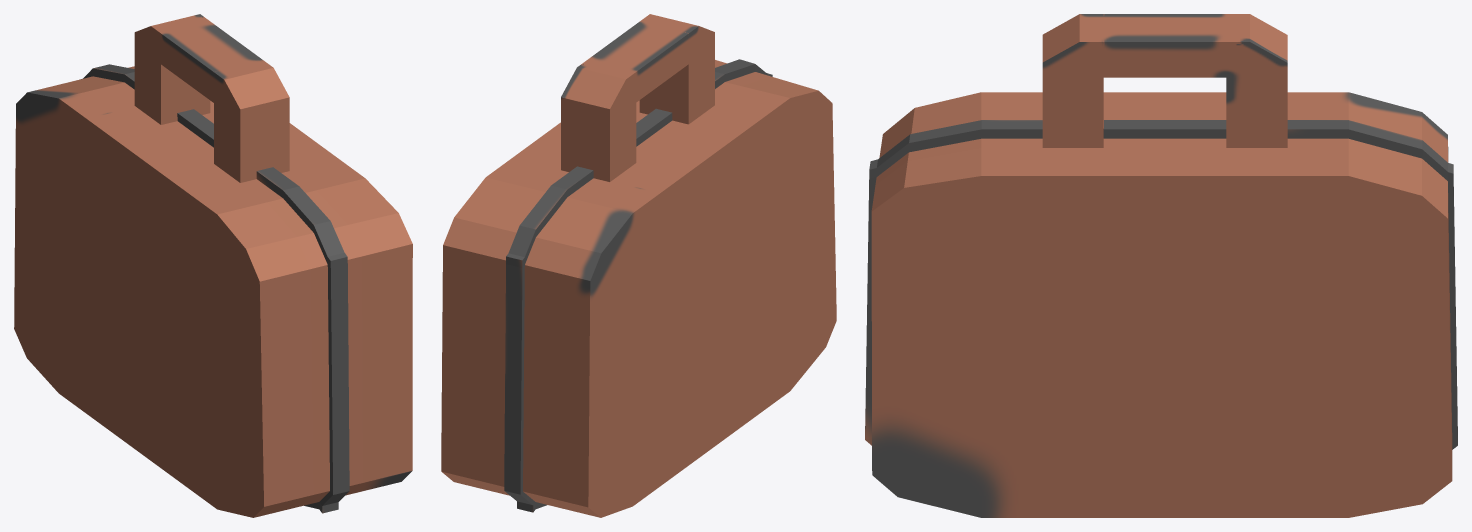
File: suitcase.glb
3 views of the same model, side by side, from view 1: azimuth 30°, elevation 25°; view 2: azimuth 150°, elevation 25°; view 3: azimuth 270°, elevation 25° (orthographic). The views are drawn at different scales.
Visible parts, largest first — view 1: Cube; view 2: Cube; view 3: Cube.
Boxes of the visible parts, box(x1,y1,x2,y2) form: Cube: box(14, 14, 412, 517); Cube: box(441, 14, 836, 517); Cube: box(865, 14, 1457, 517).
Size of the model in its own units: 1.05 by 2.67 by 3.14.
Materials: 1 (1 with a texture image).
